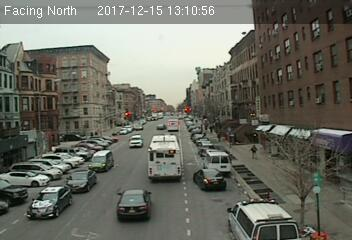bus: (145, 134, 183, 182)
car: (23, 185, 73, 219), (114, 188, 154, 220), (63, 169, 97, 193), (193, 169, 227, 192), (88, 150, 115, 171), (129, 134, 143, 147)
pedestrian: (251, 144, 258, 158)
police: (225, 197, 301, 240)
truck: (202, 151, 233, 174), (167, 118, 180, 132)
